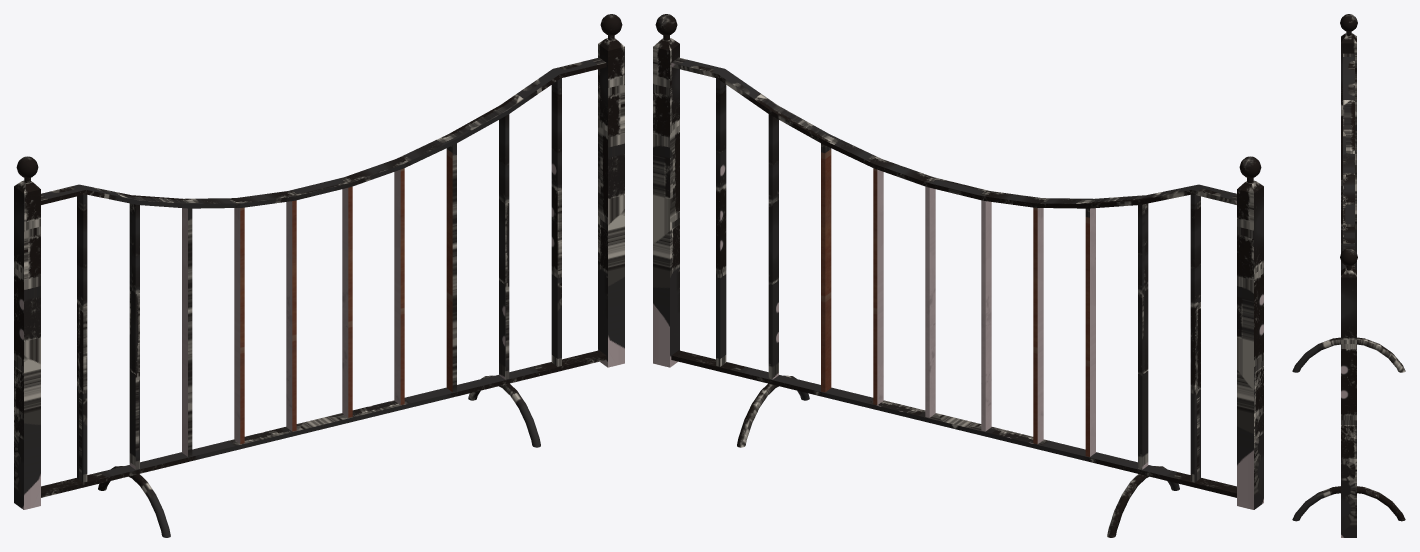
Rendered from FenceB01.FBX.
3 views of the same model, side by side, from view 1: azimuth 30°, elevation 25°; view 2: azimuth 150°, elevation 25°; view 3: azimuth 270°, elevation 25° (orthographic). The views are drawn at different scales.
Parts seen in each view (by area): view 1: Fence01; view 2: Fence01; view 3: Fence01.
Boxes of the visible parts, box(x1,y1,x2,y2) form: Fence01: box(14, 14, 624, 537); Fence01: box(653, 14, 1263, 537); Fence01: box(1292, 14, 1405, 537).
Size of the model in its own units: 231 by 139 by 45.68.
